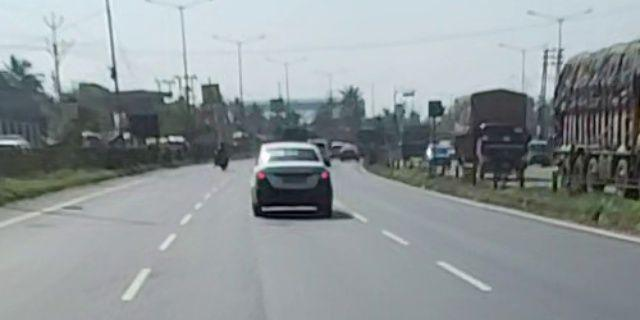Car: (244, 137, 344, 223)
